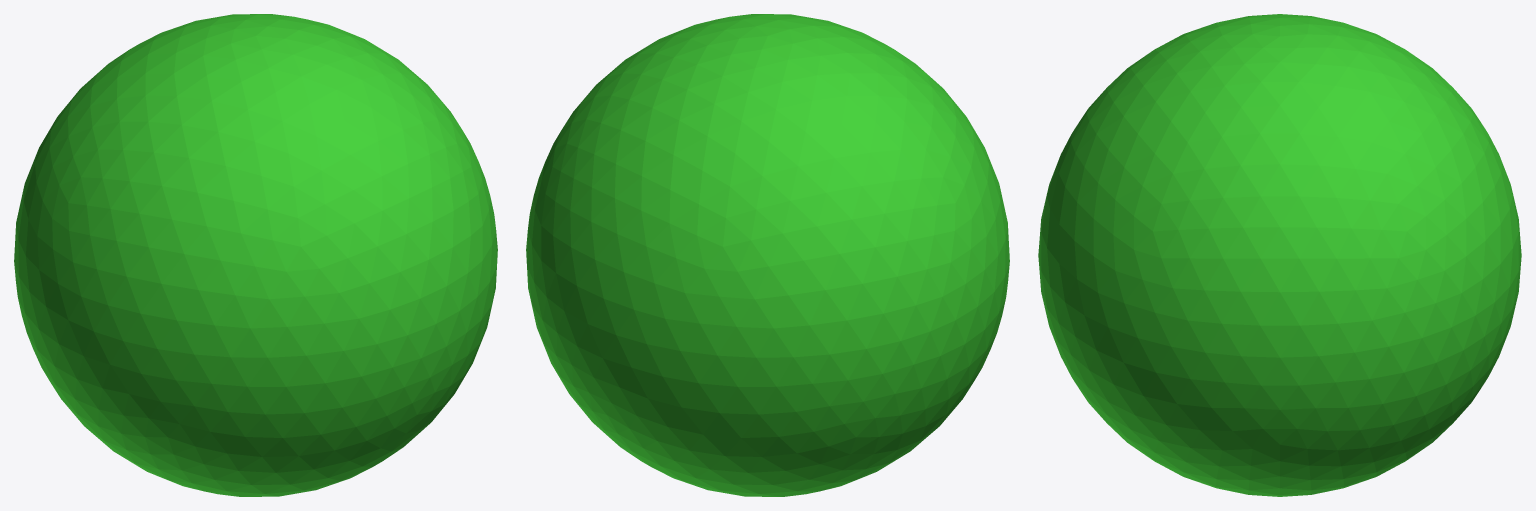
The picture shows the model from 3 angles, left to right: view 1: azimuth 30°, elevation 25°; view 2: azimuth 150°, elevation 25°; view 3: azimuth 270°, elevation 25°; orthographic projection.
Visible parts, largest first — view 1: 棱角球; view 2: 棱角球; view 3: 棱角球.
Part boxes in pixels (x1,y1,x2,y2): 棱角球: [14, 14, 497, 496]; 棱角球: [526, 14, 1009, 496]; 棱角球: [1038, 14, 1521, 496].
Size of the model in its own units: 13.12 by 13.12 by 13.12.
